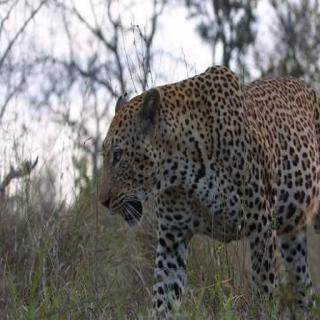Leopard: (34, 58, 320, 320)
